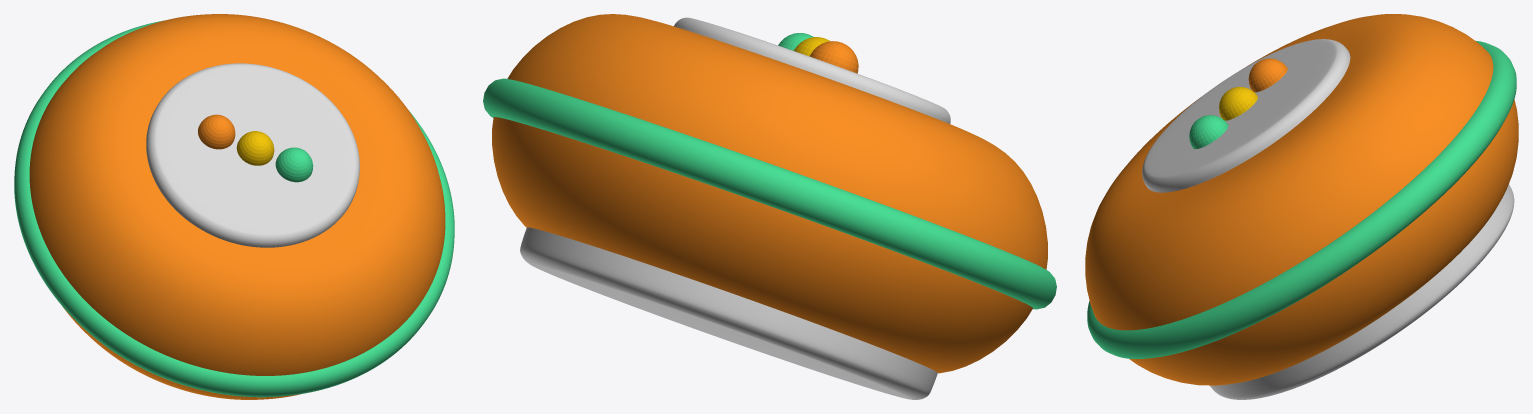
Rendered from smartspeaker-3d-icon-1665894413048.glb.
3 views of the same model, side by side, from view 1: azimuth 30°, elevation 25°; view 2: azimuth 150°, elevation 25°; view 3: azimuth 270°, elevation 25° (orthographic). The views are drawn at different scales.
Parts seen in each view (by area): view 1: Body 1, Body 3, Body 2, Indicator; view 2: Body 1, Body 2, Body 3; view 3: Body 1, Body 3, Body 2, Indicator.
Boxes of the visible parts, bbox=[...] form: Body 1: bbox=[29, 14, 445, 399]; Body 3: bbox=[146, 63, 359, 247]; Body 2: bbox=[14, 20, 454, 397]; Indicator: bbox=[236, 131, 274, 165]; Body 1: bbox=[492, 14, 1047, 373]; Body 2: bbox=[483, 33, 1056, 309]; Body 3: bbox=[520, 17, 950, 399]; Body 1: bbox=[1085, 14, 1518, 385]; Body 3: bbox=[1142, 39, 1514, 399]; Body 2: bbox=[1087, 40, 1516, 358]; Indicator: bbox=[1219, 86, 1257, 120].
Bounding box in the file's own units: 3.11 × 2.31 × 2.7.
